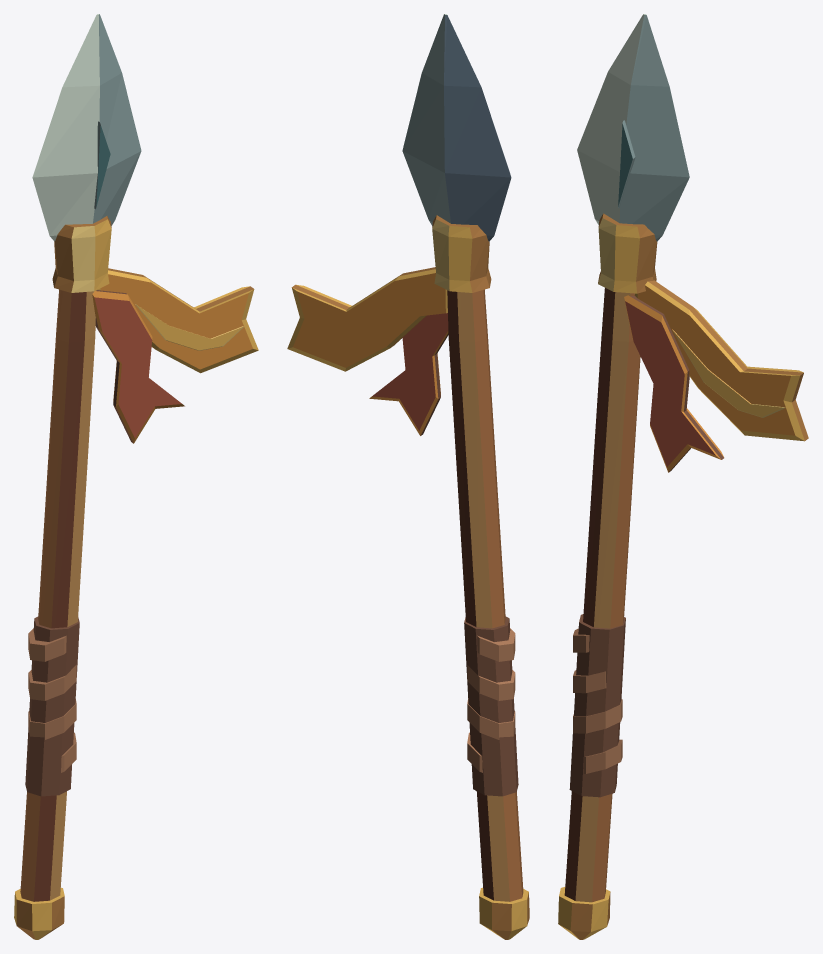
Rendered from spear.obj.
3 views of the same model, side by side, from view 1: azimuth 30°, elevation 25°; view 2: azimuth 150°, elevation 25°; view 3: azimuth 330°, elevation 25° (orthographic). The views are drawn at different scales.
Visible parts, largest first — view 1: Ash_wood_haft, Willow_leaf, Streamer_long, Streamer_short, Leather_grip, Collar, Heel, Woven_pennant_stripe, Wrap_1, Wrap_2, Wrap_0, Head_etching; view 2: Ash_wood_haft, Willow_leaf, Streamer_long, Leather_grip, Streamer_short, Collar, Heel, Wrap_1, Wrap_2, Wrap_0; view 3: Ash_wood_haft, Willow_leaf, Streamer_long, Streamer_short, Leather_grip, Collar, Heel, Woven_pennant_stripe, Wrap_2, Head_etching, Wrap_3, Wrap_1.
Boxes of the visible parts, box(x1,y1,x2,y2) form: Ash_wood_haft: box(20, 289, 96, 901); Willow_leaf: box(32, 14, 141, 241); Streamer_long: box(98, 268, 258, 373); Streamer_short: box(92, 290, 184, 443); Leather_grip: box(25, 616, 79, 796); Collar: box(52, 216, 111, 292); Heel: box(14, 887, 64, 939); Woven_pennant_stripe: box(135, 304, 244, 350); Wrap_1: box(28, 665, 76, 700); Wrap_2: box(28, 699, 76, 739); Wrap_0: box(28, 628, 66, 661); Head_etching: box(94, 121, 110, 209); Ash_wood_haft: box(447, 289, 523, 901); Willow_leaf: box(402, 14, 511, 241); Streamer_long: box(287, 267, 447, 371); Leather_grip: box(464, 616, 518, 796); Streamer_short: box(369, 313, 448, 435); Collar: box(432, 215, 491, 292); Heel: box(479, 887, 529, 939); Wrap_1: box(467, 665, 515, 700); Wrap_2: box(467, 698, 515, 739); Wrap_0: box(477, 628, 515, 661); Ash_wood_haft: box(564, 288, 640, 902); Willow_leaf: box(577, 14, 689, 241); Streamer_long: box(634, 280, 808, 441); Streamer_short: box(624, 295, 724, 472); Leather_grip: box(569, 614, 625, 797); Collar: box(598, 213, 657, 293); Heel: box(558, 887, 610, 939); Woven_pennant_stripe: box(672, 329, 785, 417); Wrap_2: box(573, 699, 622, 733); Head_etching: box(618, 120, 635, 208); Wrap_3: box(583, 739, 622, 773); Wrap_1: box(573, 670, 606, 693).
Size of the model in its own units: 1 by 3.63 by 0.1938.
